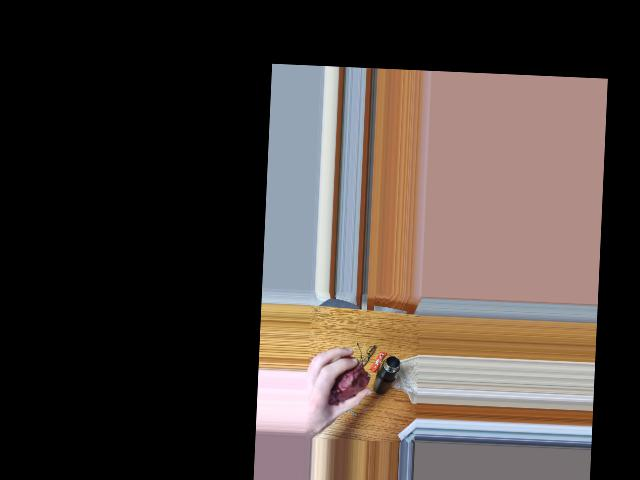onion: (326, 359, 366, 407)
